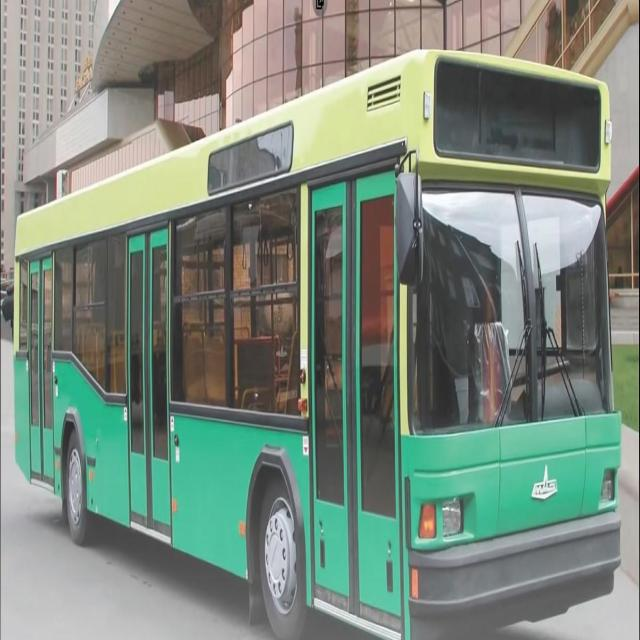bus: (12, 42, 623, 640)
